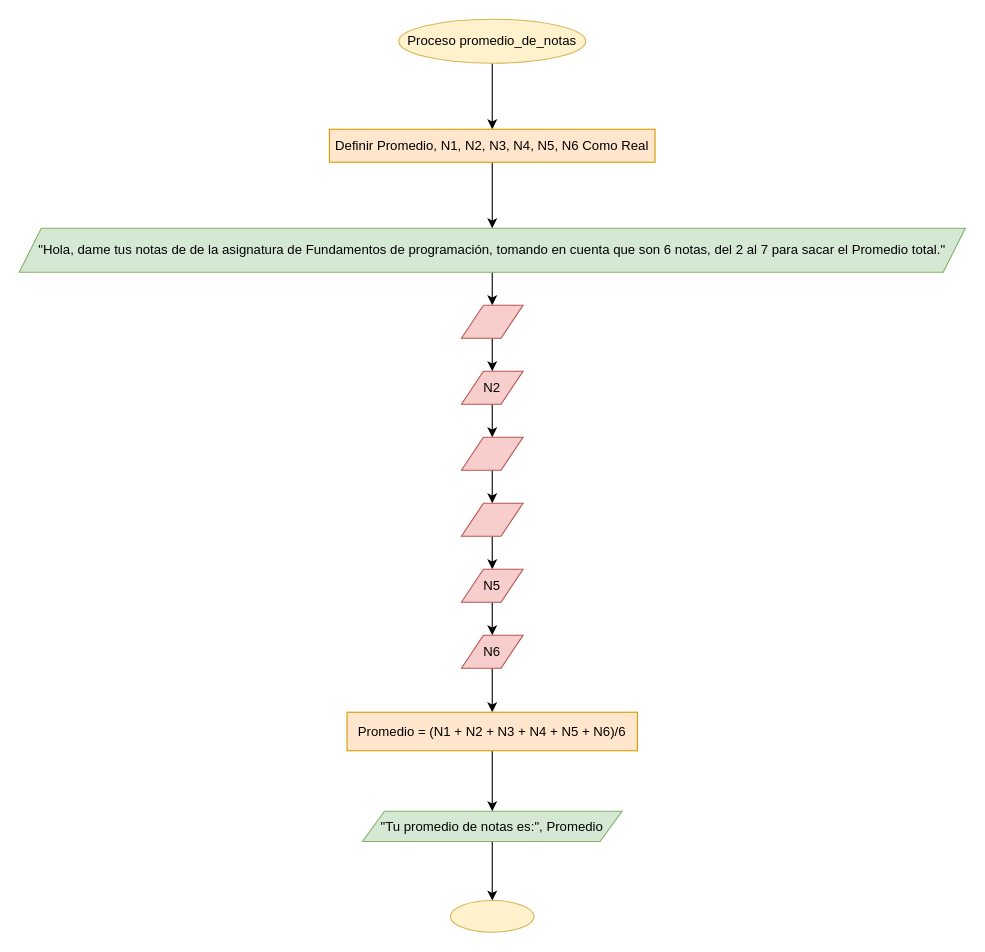
This 985x952 diagram has some shape labels left out. Here are the shapes that lost their labels. From the top down, the centre of each, then its label:
At pixel 491 321: "N1".
At pixel 491 453: "N3".
At pixel 491 519: "N4".
At pixel 491 915: "FinProceso".
